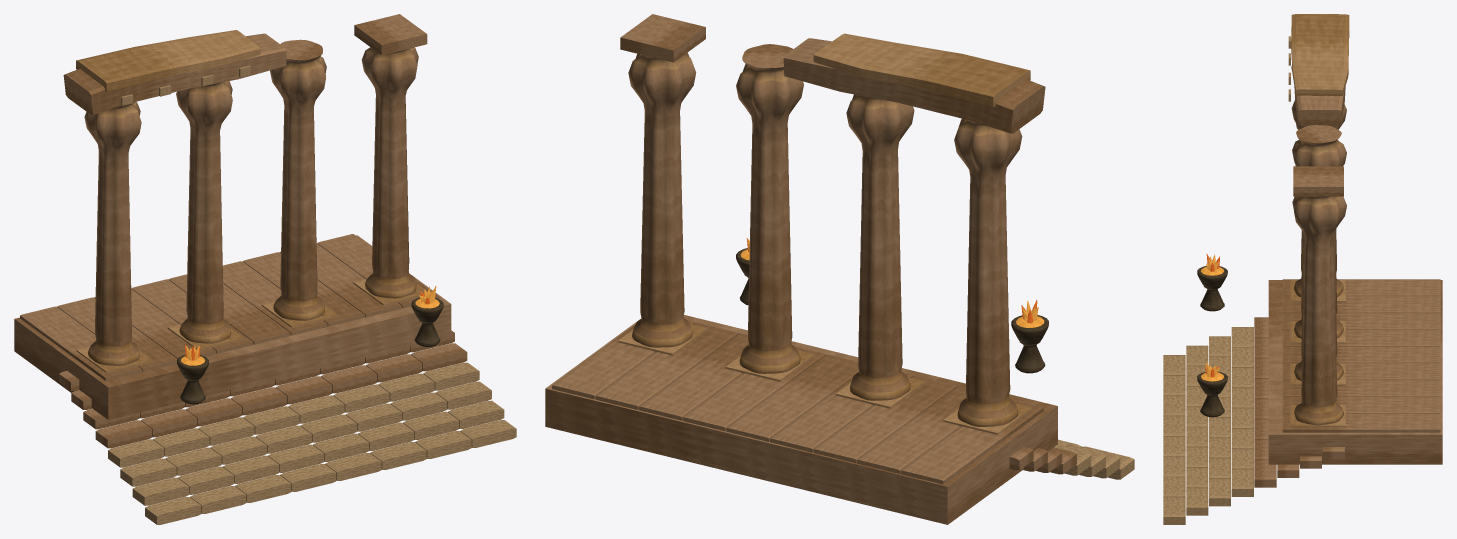
File: nile_temple_quay.glb
3 views of the same model, side by side, from view 1: azimuth 30°, elevation 25°; view 2: azimuth 150°, elevation 25°; view 3: azimuth 270°, elevation 25° (orthographic). The views are drawn at different scales.
Parts seen in each view (by area): view 1: nile_temple_quay; view 2: nile_temple_quay; view 3: nile_temple_quay.
Part boxes in pixels (bbox=[...]): nile_temple_quay: bbox=[14, 14, 516, 524]; nile_temple_quay: bbox=[545, 14, 1134, 524]; nile_temple_quay: bbox=[1163, 14, 1442, 524].
Size of the model in its own units: 6.6 by 6.8 by 4.8.
Materials: 2 (2 with a texture image).
